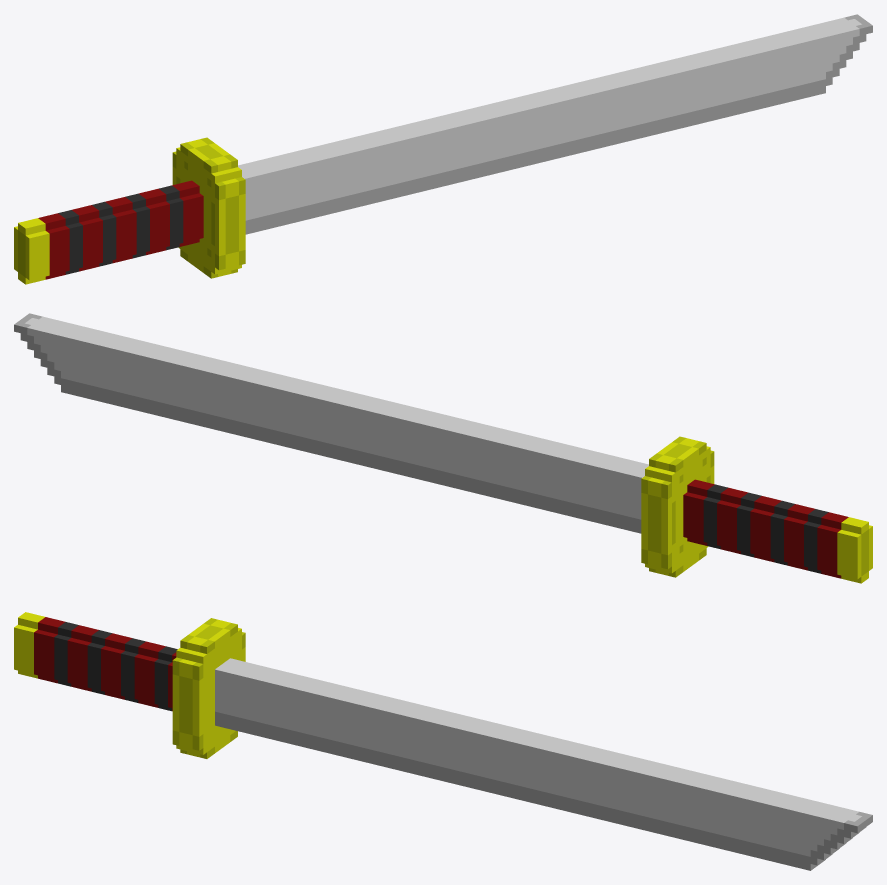
Rendered from weapons-1.obj.
3 views of the same model, one above another, from view 1: azimuth 30°, elevation 25°; view 2: azimuth 150°, elevation 25°; view 3: azimuth 330°, elevation 25° (orthographic).
Bounding box in the file's own units: 12.6 × 1.6 × 1.2.
1 material, 1 textured.
